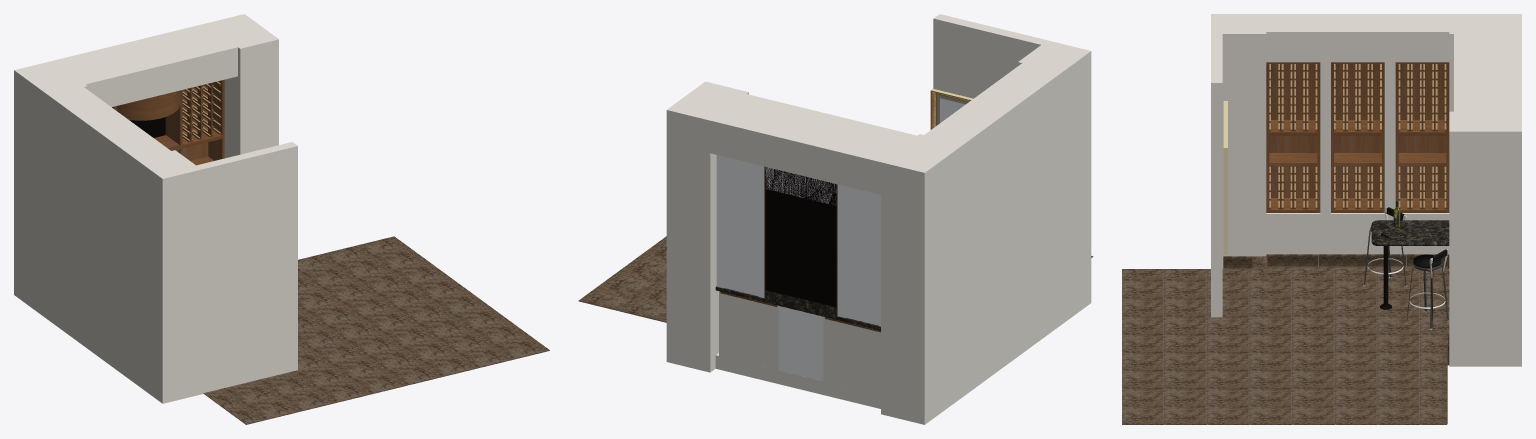
Rendered from wine-room.glb.
3 renders of one model, left to right at view 1: azimuth 30°, elevation 25°; view 2: azimuth 150°, elevation 25°; view 3: azimuth 270°, elevation 25°, orthographic. The views are drawn at different scales.
Visible parts, largest first — view 1: Object_7, Object_2578, Object_14, Object_17; view 2: Object_7, Object_17, Object_2578, Object_1523, Object_14; view 3: Object_7, Object_2578, Object_14, Object_17, Object_1523, Object_3330, Object_1924.
Boxes of the visible parts, left/top/right/bottom form: Object_7: left=14, top=14, right=297, bottom=403; Object_2578: left=204, top=236, right=549, bottom=424; Object_14: left=112, top=79, right=224, bottom=165; Object_17: left=129, top=81, right=527, bottom=424; Object_7: left=666, top=14, right=1091, bottom=424; Object_17: left=578, top=89, right=1093, bottom=381; Object_2578: left=579, top=236, right=1092, bottom=322; Object_1523: left=715, top=286, right=880, bottom=330; Object_14: left=720, top=166, right=880, bottom=332; Object_7: left=1211, top=14, right=1521, bottom=366; Object_2578: left=1122, top=254, right=1449, bottom=424; Object_14: left=1266, top=62, right=1449, bottom=212; Object_17: left=1122, top=64, right=1448, bottom=424; Object_1523: left=1371, top=220, right=1449, bottom=245; Object_3330: left=1371, top=207, right=1447, bottom=268; Object_1924: left=1380, top=233, right=1391, bottom=309.
Bounding box in the file's own units: 1315 × 820 × 1264.
11 materials, 10 textured.
